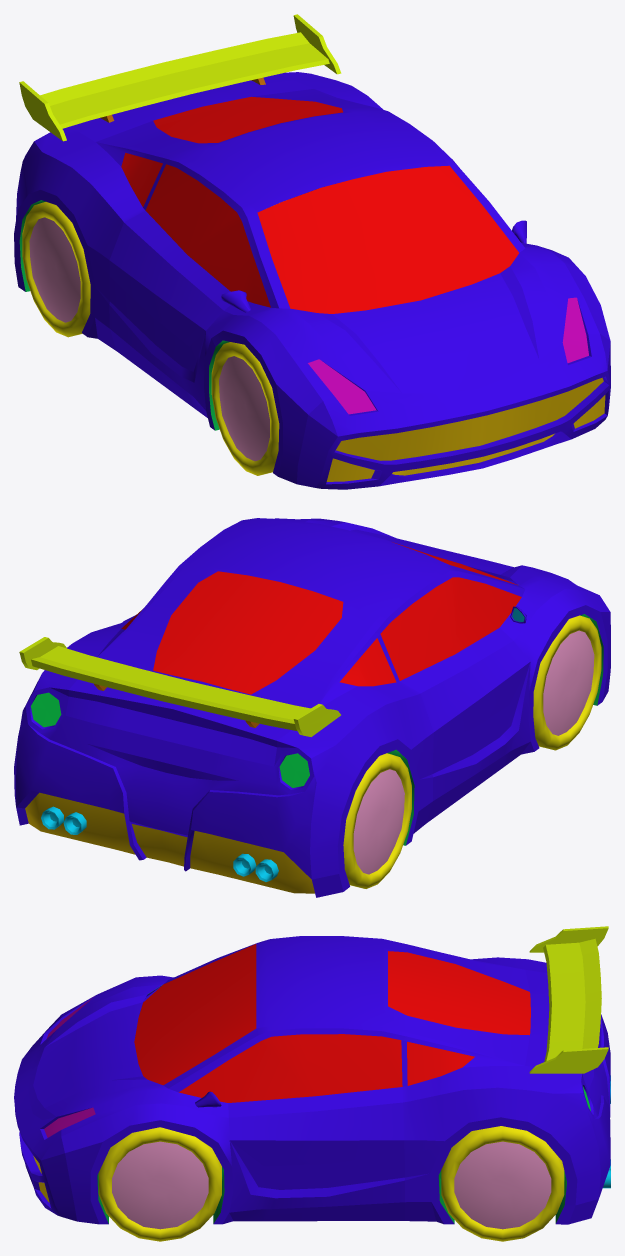
File: 12_PegasusF4_ColorCoded.fbx
3 renders of one model, top to bottom at view 1: azimuth 30°, elevation 25°; view 2: azimuth 150°, elevation 25°; view 3: azimuth 270°, elevation 25°, orthographic. The views are drawn at different scales.
Parts seen in each view (by area): view 1: Body, Spoiler, tireBackR, tireFrontR; view 2: Body, Spoiler, tireBackR, tireFrontR; view 3: Body, tireBackL, tireFrontL, Spoiler.
Part boxes in pixels (x1,y1,x2,y2): Body: (14,72,610,489); Spoiler: (19,14,341,141); tireBackR: (22,202,90,337); tireFrontR: (211,342,279,475); Body: (14,518,610,897); Spoiler: (19,637,340,736); tireBackR: (343,753,411,888); tireFrontR: (533,615,601,750); Body: (14,936,610,1224); tireBackL: (441,1126,564,1241); tireFrontL: (98,1127,221,1241); Spoiler: (529,926,608,1073).
Size of the model in its own units: 62.96 by 109 by 39.93.
